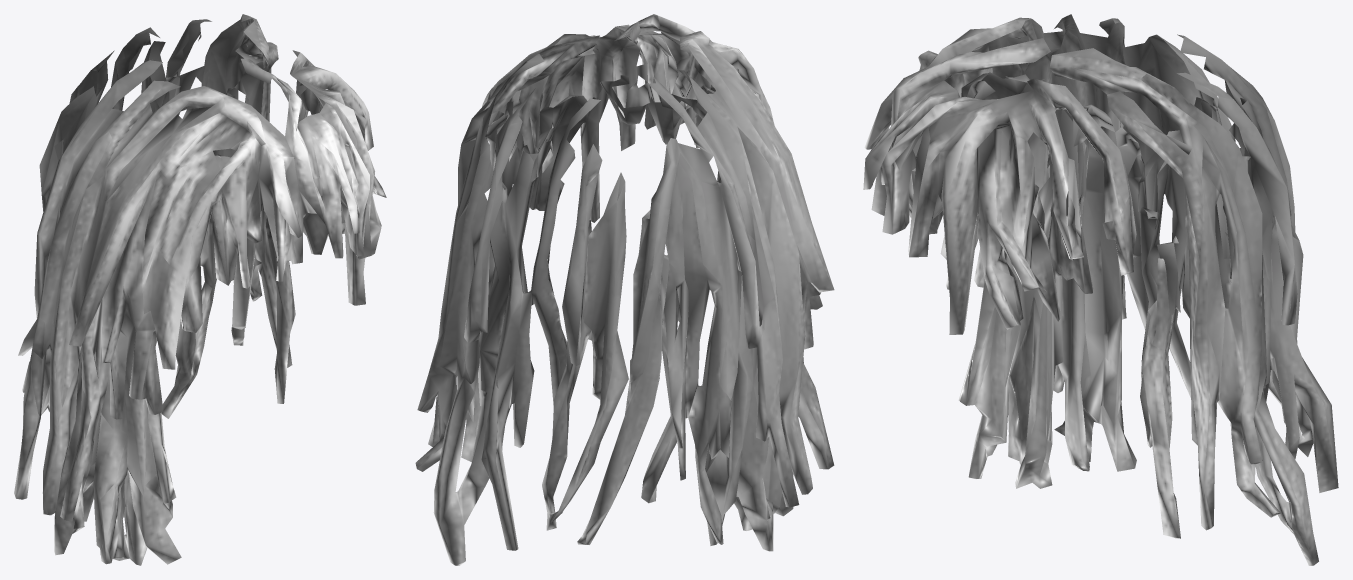
Rendered from locs-medium.glb.
The picture shows the model from 3 angles, left to right: view 1: azimuth 30°, elevation 25°; view 2: azimuth 150°, elevation 25°; view 3: azimuth 270°, elevation 25°; orthographic projection. The views are drawn at different scales.
Visible parts, largest first — view 1: locs-medium; view 2: locs-medium; view 3: locs-medium.
Boxes of the visible parts, left/top/right/bottom form: locs-medium: left=14, top=14, right=386, bottom=565; locs-medium: left=415, top=14, right=834, bottom=565; locs-medium: left=863, top=14, right=1338, bottom=565.
Bounding box in the file's own units: 0.272 × 0.3585 × 0.299.
Materials: 1 (1 with a texture image).
